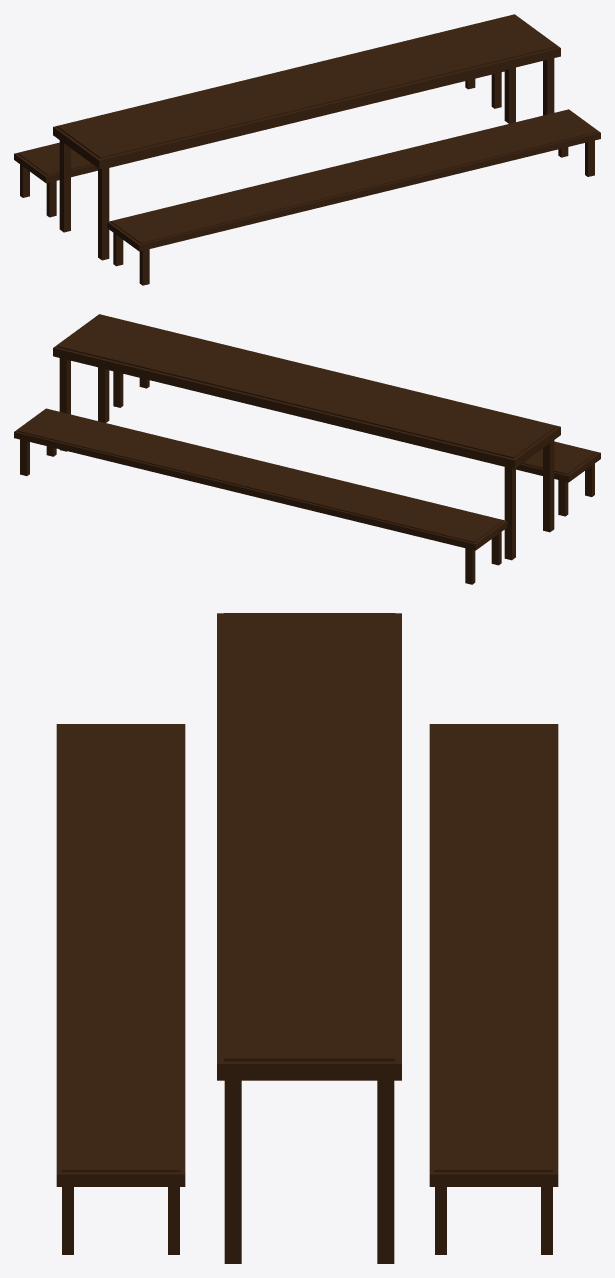
Rendered from banken combined.fbx.
3 renders of one model, top to bottom at view 1: azimuth 30°, elevation 25°; view 2: azimuth 150°, elevation 25°; view 3: azimuth 270°, elevation 25°, orthographic. The views are drawn at different scales.
Parts seen in each view (by area): view 1: pCube16; view 2: pCube16; view 3: pCube16.
Boxes of the visible parts, x1=… form: pCube16: x1=14, y1=14, x2=600, y2=285; pCube16: x1=14, y1=314, x2=600, y2=584; pCube16: x1=56, y1=613, x2=558, y2=1263.
Size of the model in its own units: 17.37 by 3.73 by 8.17.
